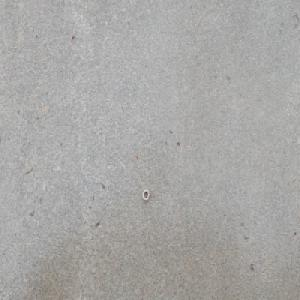Nut: (141, 189, 149, 203)
